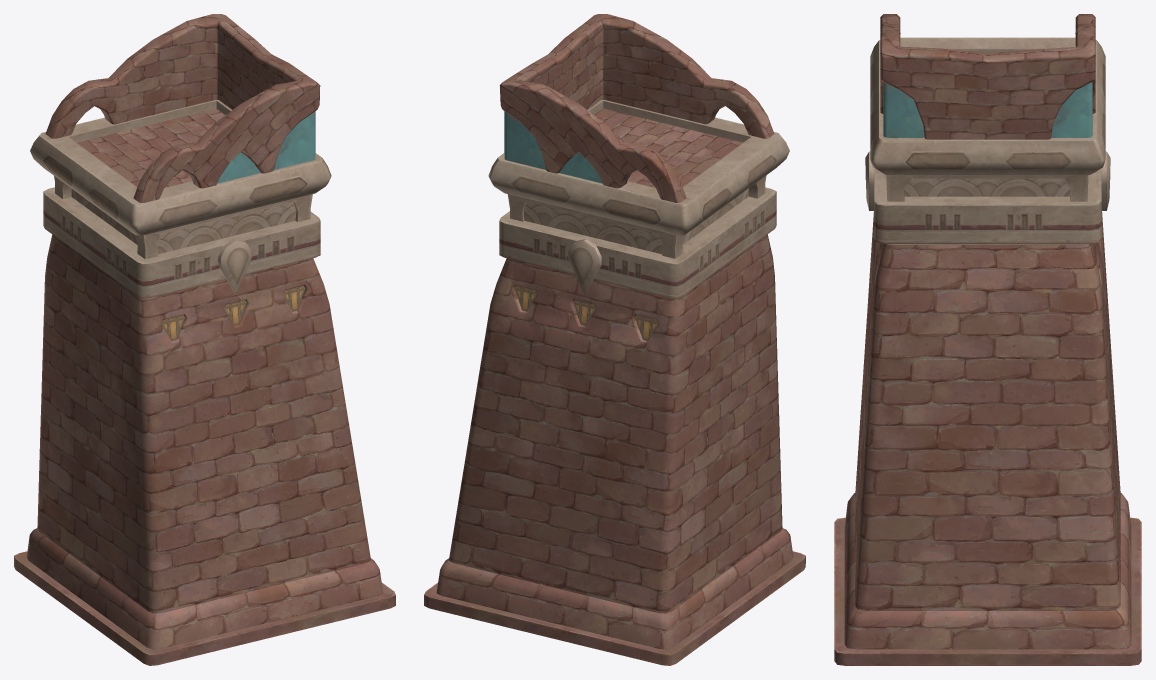
File: Homeworld_Exterior_Xm_Build_Arvillage_03_Lod0.fbx
3 renders of one model, left to right at view 1: azimuth 30°, elevation 25°; view 2: azimuth 150°, elevation 25°; view 3: azimuth 270°, elevation 25°, orthographic. The views are drawn at different scales.
Visible parts, largest first — view 1: Area_Xm_Build_ARC_House_C_01_Lod0; view 2: Area_Xm_Build_ARC_House_C_01_Lod0; view 3: Area_Xm_Build_ARC_House_C_01_Lod0.
Boxes of the visible parts, x1,y1,x2,y2 form: Area_Xm_Build_ARC_House_C_01_Lod0: (14,14,395,665); Area_Xm_Build_ARC_House_C_01_Lod0: (424,14,805,665); Area_Xm_Build_ARC_House_C_01_Lod0: (834,14,1141,665).
Size of the model in its own units: 5.72 by 11.44 by 5.46.
